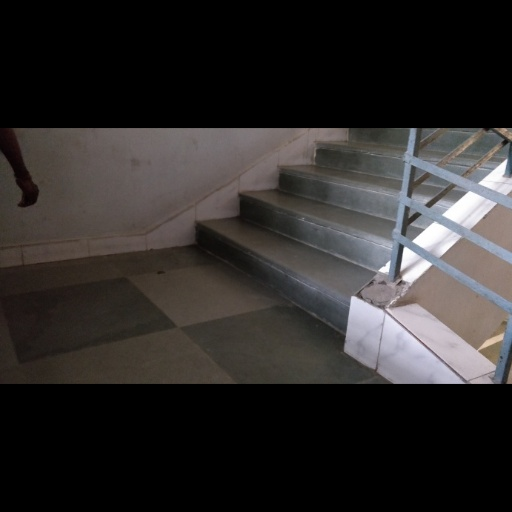Stairs: (196, 130, 407, 333)
